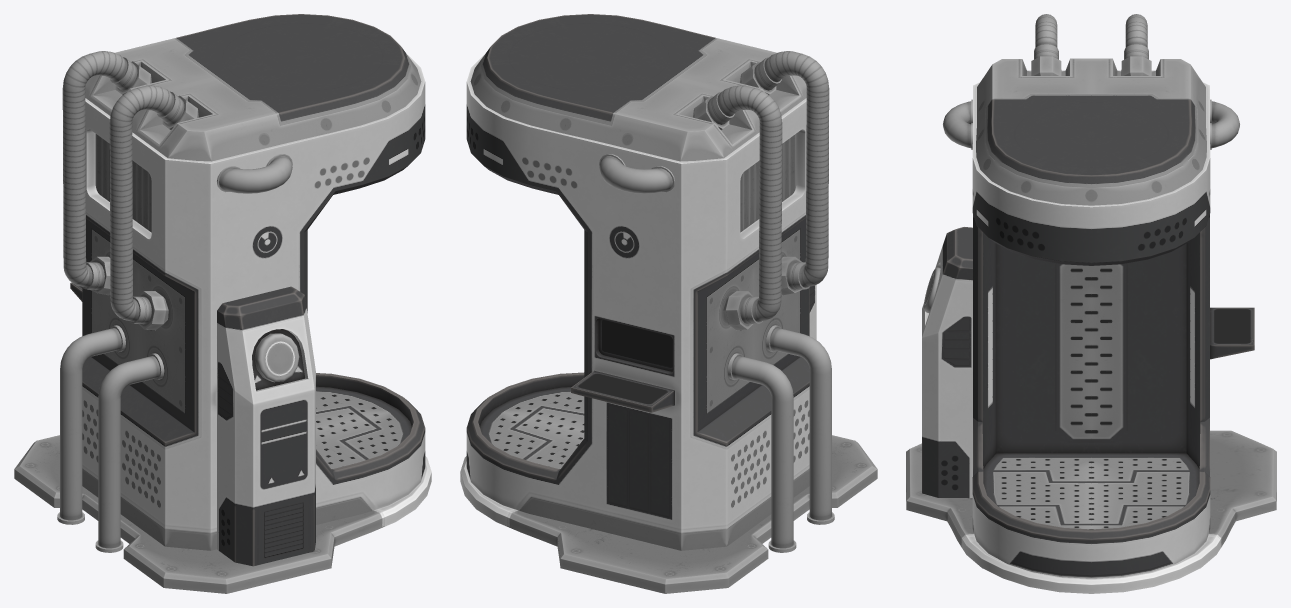
File: SM_LabCapsule05_Capsule.FBX
3 renders of one model, left to right at view 1: azimuth 30°, elevation 25°; view 2: azimuth 150°, elevation 25°; view 3: azimuth 270°, elevation 25°, orthographic. The views are drawn at different scales.
Parts seen in each view (by area): view 1: SM_LabCapsule05_Capsule; view 2: SM_LabCapsule05_Capsule; view 3: SM_LabCapsule05_Capsule.
Part boxes in pixels (box(x1,y1,x2,y2)): SM_LabCapsule05_Capsule: box(14, 14, 431, 593); SM_LabCapsule05_Capsule: box(460, 14, 877, 593); SM_LabCapsule05_Capsule: box(906, 14, 1276, 593).
Size of what is drawn, in the model's own units: 253 by 252 by 328.
